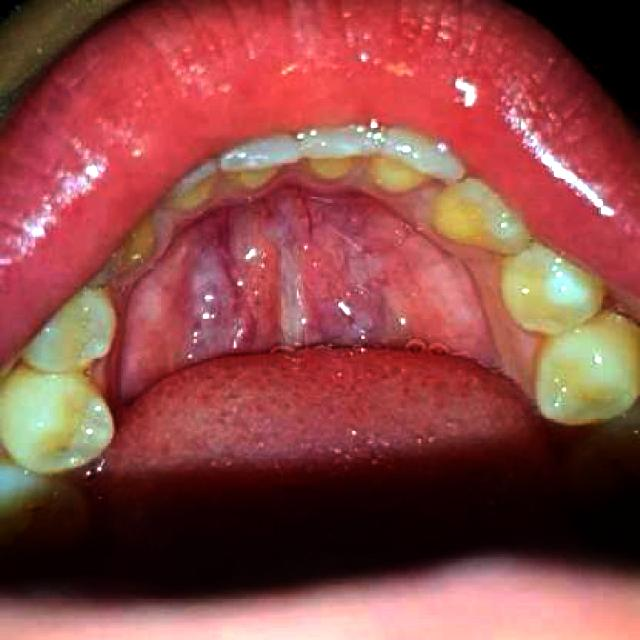Plaque: (43, 437, 87, 468)
